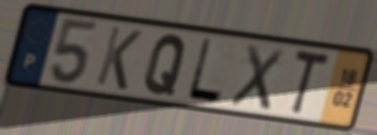5: (48, 17, 102, 88)
K: (93, 24, 145, 93)
L: (184, 35, 225, 106)
Q: (142, 32, 190, 98)
T: (290, 46, 332, 119)
X: (226, 41, 287, 114)
